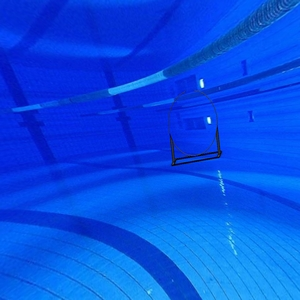circle: (167, 89, 226, 168)
